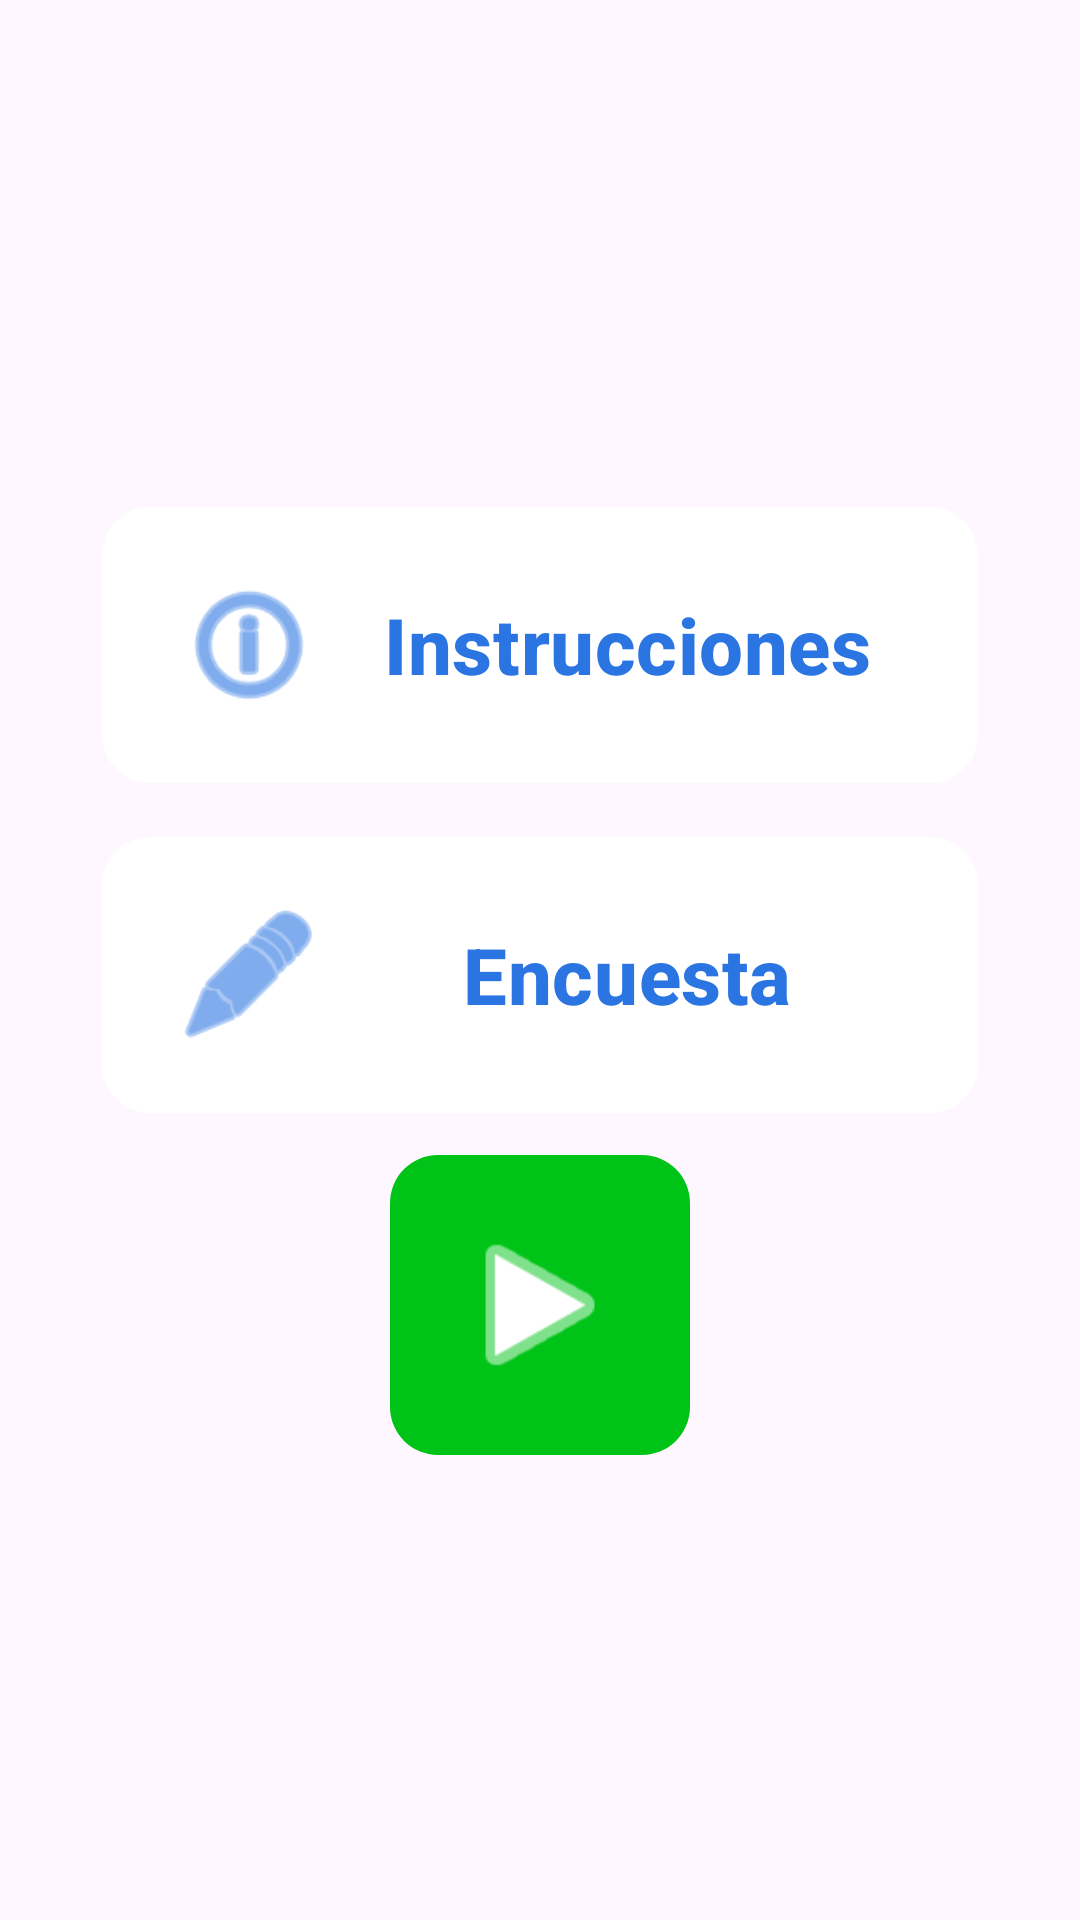

Locate icon controls on the screen. Image size 1080 × 1920, boxes as (x1, y1, x2, y2).
play: (390, 1155, 690, 1455)
